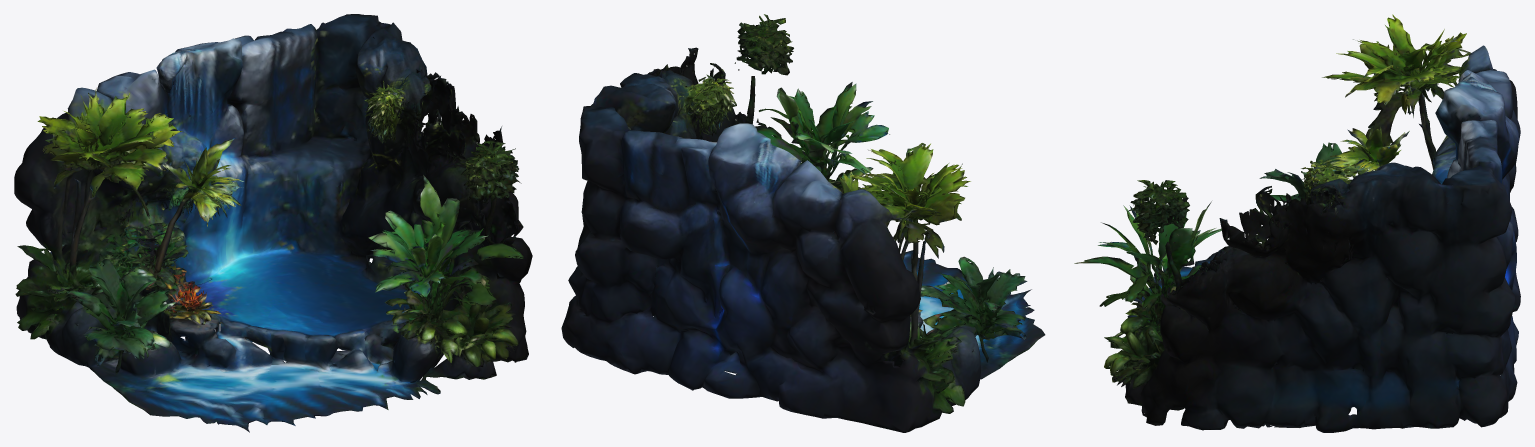
Rendered from Meshy_AI_A_black_rock_wall_wi_1017075411_texture.fbx.
The picture shows the model from 3 angles, left to right: view 1: azimuth 30°, elevation 25°; view 2: azimuth 150°, elevation 25°; view 3: azimuth 270°, elevation 25°; orthographic projection. The views are drawn at different scales.
Visible parts, largest first — view 1: Mesh_0; view 2: Mesh_0; view 3: Mesh_0.
Part boxes in pixels (box(x1,y1,x2,y2)): Mesh_0: box(14, 14, 532, 432); Mesh_0: box(561, 14, 1045, 432); Mesh_0: box(1074, 14, 1520, 432).
Size of the model in its own units: 198 by 126 by 195.
Materials: 1 (1 with a texture image).
